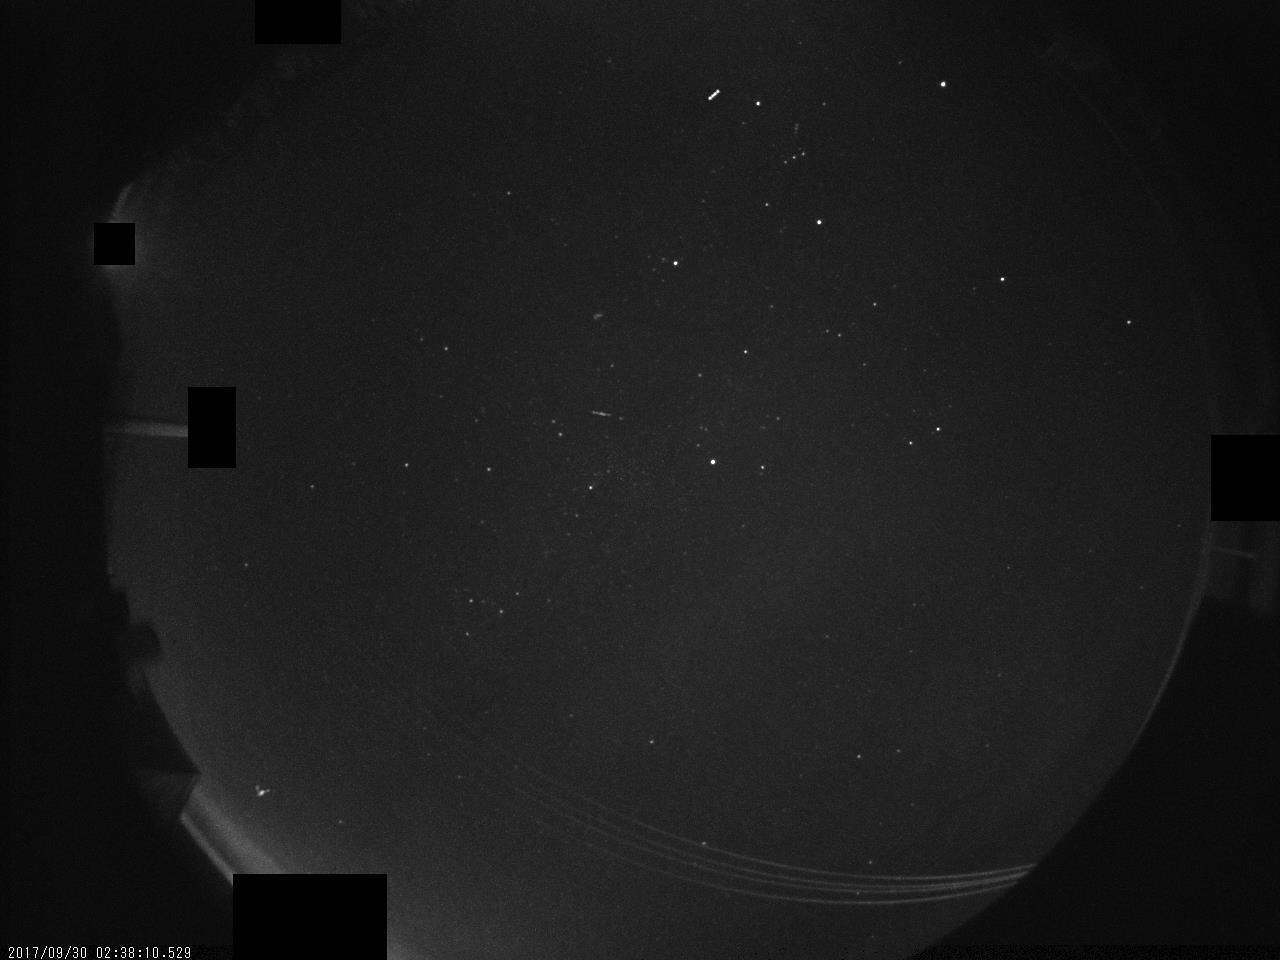TLE: (235, 760, 299, 831)
